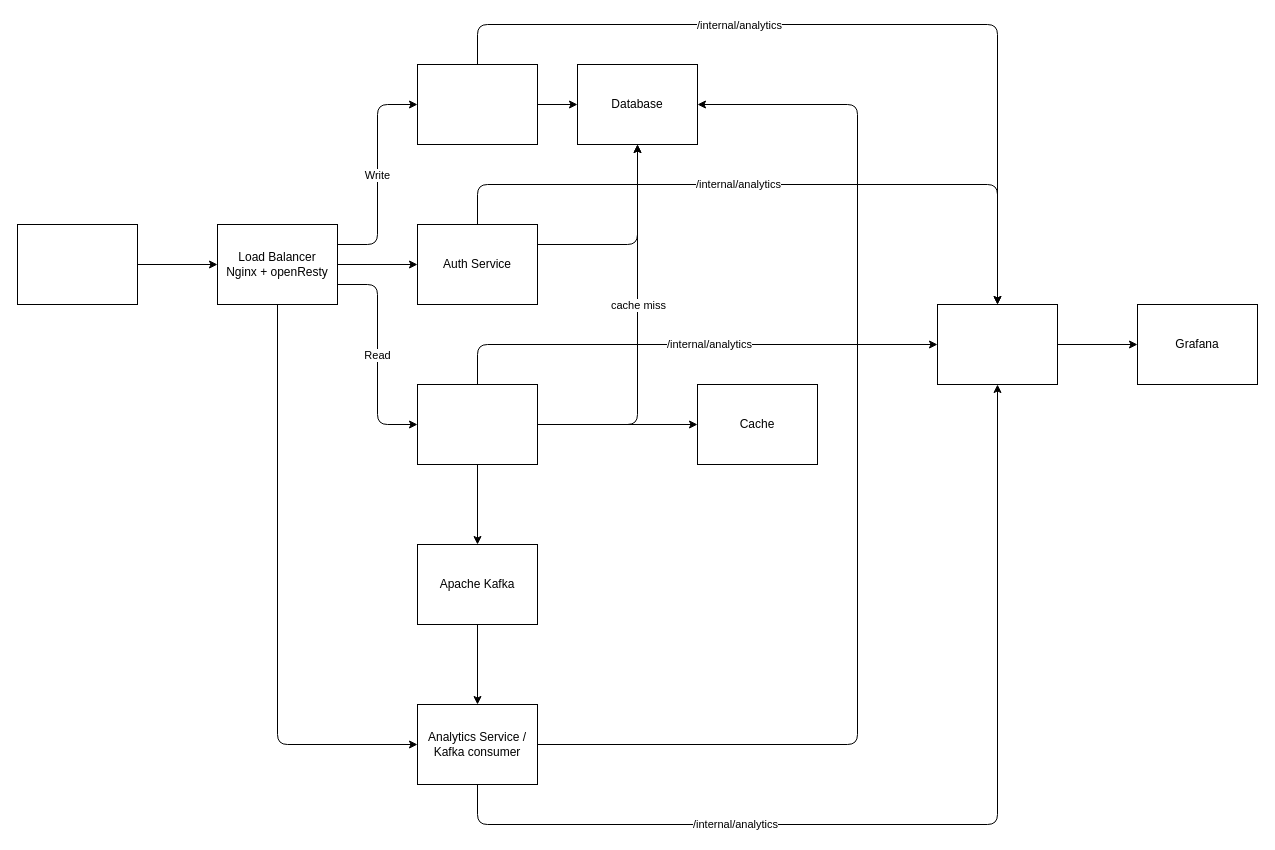
The diagram is 1275 pixels wide and 850 high, and some of its shapes have lost their labels. The shapes that lost their labels are listed below. From the top down, each one's box as (x1, y1, x2, y2) in pixels, then its label:
(416, 64, 538, 144): URL Generation Service
(16, 224, 138, 304): Client
(936, 304, 1058, 384): Prometheus
(416, 384, 538, 464): Redirection Service
